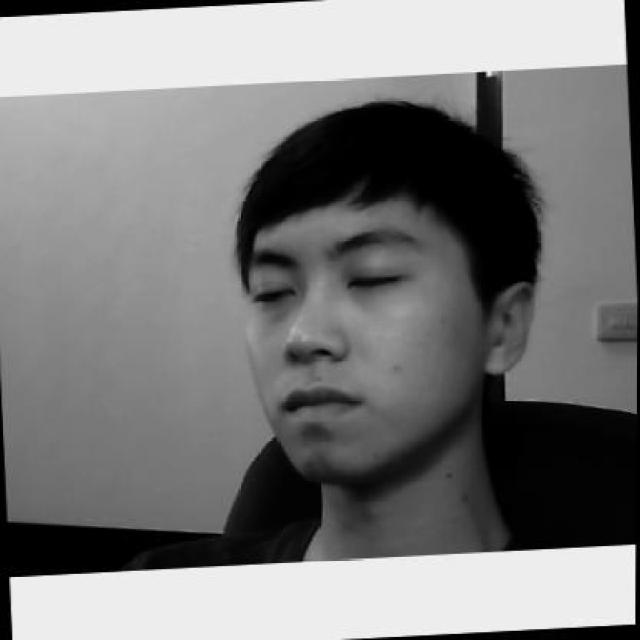inattentif: (229, 92, 543, 491)
